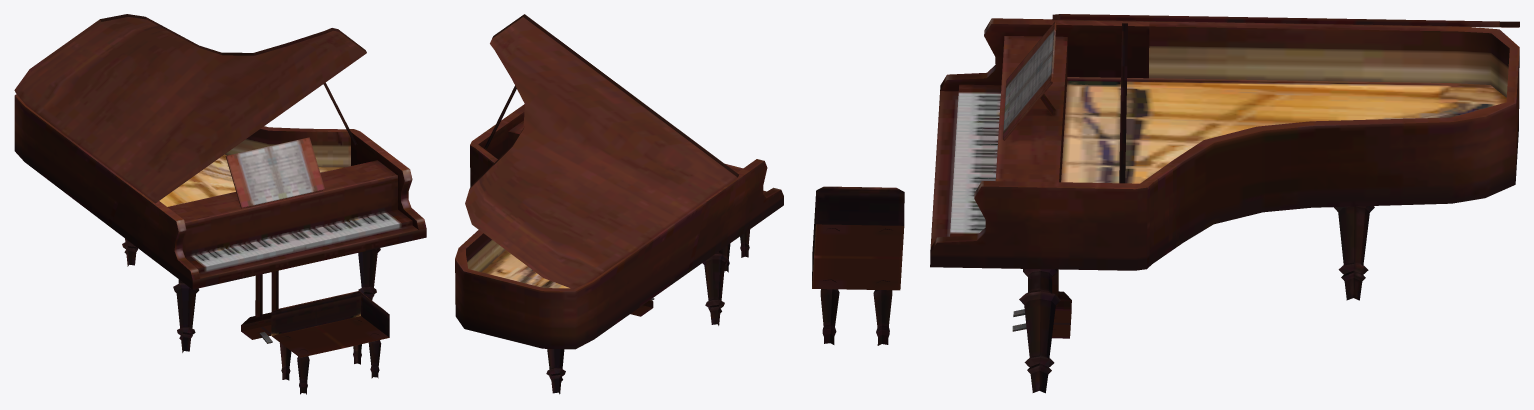
File: grand_piano (1).glb
3 renders of one model, left to right at view 1: azimuth 30°, elevation 25°; view 2: azimuth 150°, elevation 25°; view 3: azimuth 270°, elevation 25°, orthographic. The views are drawn at different scales.
Parts seen in each view (by area): view 1: mesh_724_723.nr; view 2: mesh_724_723.nr; view 3: mesh_724_723.nr.
Part boxes in pixels (box(x1,y1,x2,y2)): mesh_724_723.nr: box(14, 14, 426, 394); mesh_724_723.nr: box(455, 14, 783, 394); mesh_724_723.nr: box(812, 14, 1519, 393).
Size of the model in its own units: 1.46 by 1.55 by 2.6.
1 material, 1 textured.
